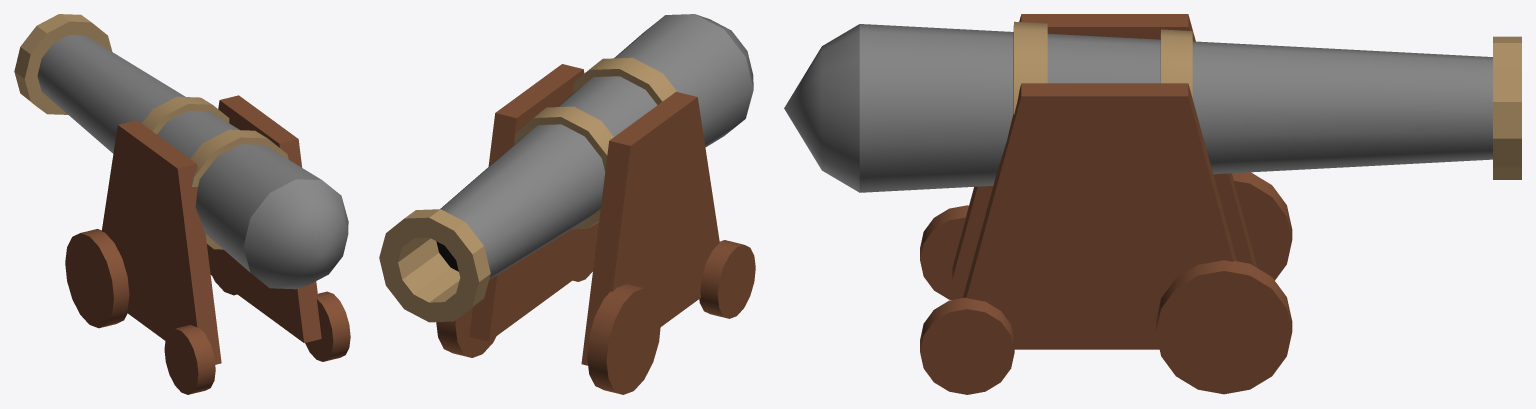
Rendered from Cannon.fbx.
The picture shows the model from 3 angles, left to right: view 1: azimuth 30°, elevation 25°; view 2: azimuth 150°, elevation 25°; view 3: azimuth 270°, elevation 25°; orthographic projection. The views are drawn at different scales.
Parts seen in each view (by area): view 1: Cannon; view 2: Cannon; view 3: Cannon.
Part boxes in pixels (bbox=[...]): Cannon: bbox=[14, 14, 350, 394]; Cannon: bbox=[379, 14, 755, 394]; Cannon: bbox=[784, 14, 1521, 394].
Size of the model in its own units: 0.7428 by 1.05 by 2.23.
